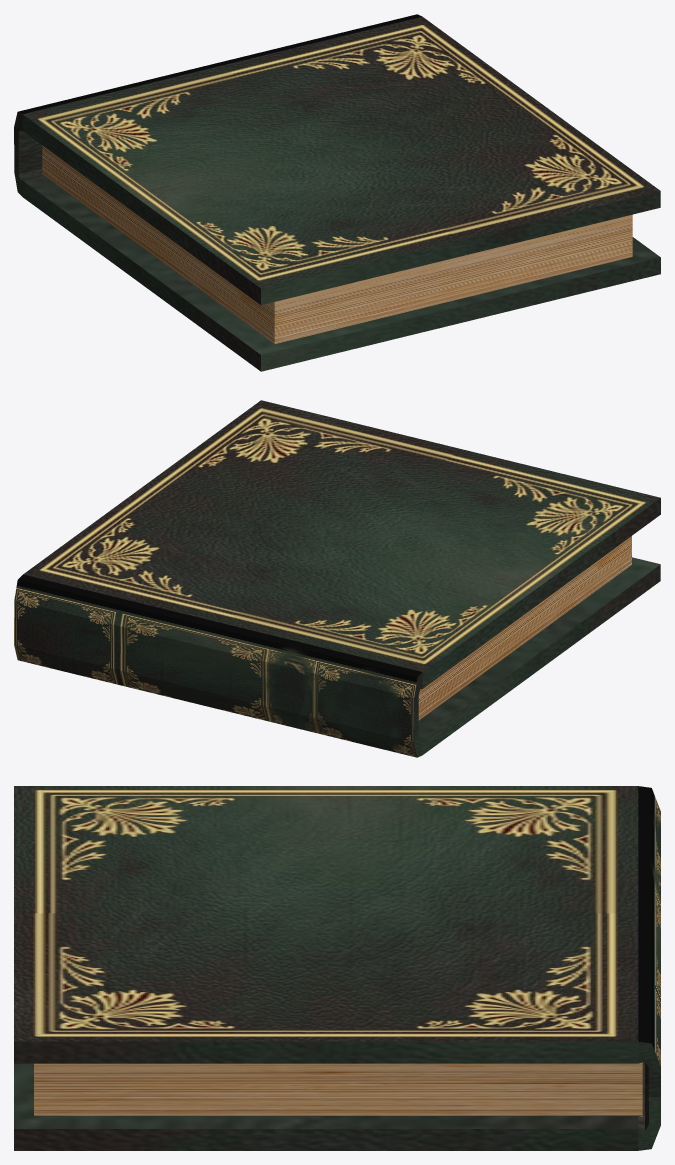
Rendered from book.glb.
The picture shows the model from 3 angles, top to bottom: view 1: azimuth 30°, elevation 25°; view 2: azimuth 150°, elevation 25°; view 3: azimuth 270°, elevation 25°; orthographic projection. The views are drawn at different scales.
Parts seen in each view (by area): view 1: Box006_green_0.002; view 2: Box006_green_0.002; view 3: Box006_green_0.002.
Part boxes in pixels (box(x1,y1,x2,y2)): Box006_green_0.002: box(14, 14, 660, 371); Box006_green_0.002: box(14, 400, 660, 757); Box006_green_0.002: box(14, 786, 660, 1150).
Bounding box in the file's own units: 0.653 × 0.1299 × 0.698.
1 material, 1 textured.
